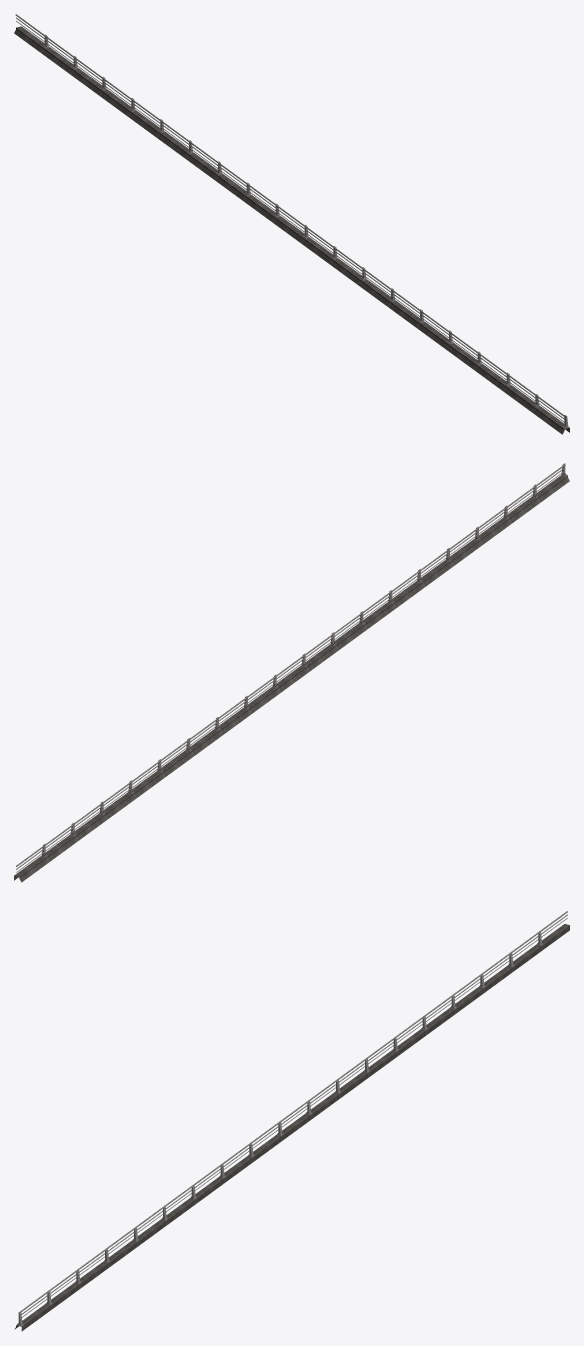
The model's file is SM_B2RailingConcrete.fbx.
3 views of the same model, one above another, from view 1: azimuth 30°, elevation 25°; view 2: azimuth 150°, elevation 25°; view 3: azimuth 330°, elevation 25° (orthographic).
Visible parts, largest first — view 1: SM_B2RailingConcrete; view 2: SM_B2RailingConcrete; view 3: SM_B2RailingConcrete.
Boxes of the visible parts, box(x1,y1,x2,y2) form: SM_B2RailingConcrete: box(14, 14, 569, 434); SM_B2RailingConcrete: box(14, 463, 569, 882); SM_B2RailingConcrete: box(14, 911, 569, 1331).
Bounding box in the file's own units: 0.75 × 1.66 × 95.21.
